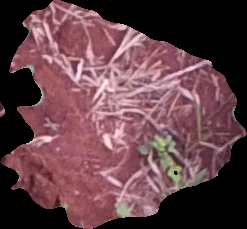soil: (1, 1, 246, 229)
